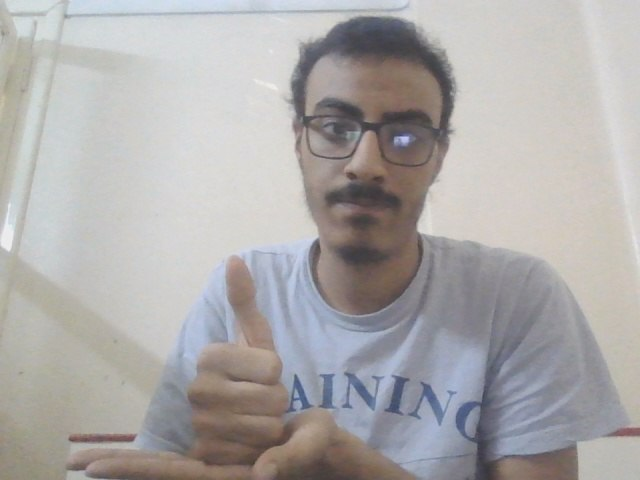Help: (64, 252, 340, 480)
